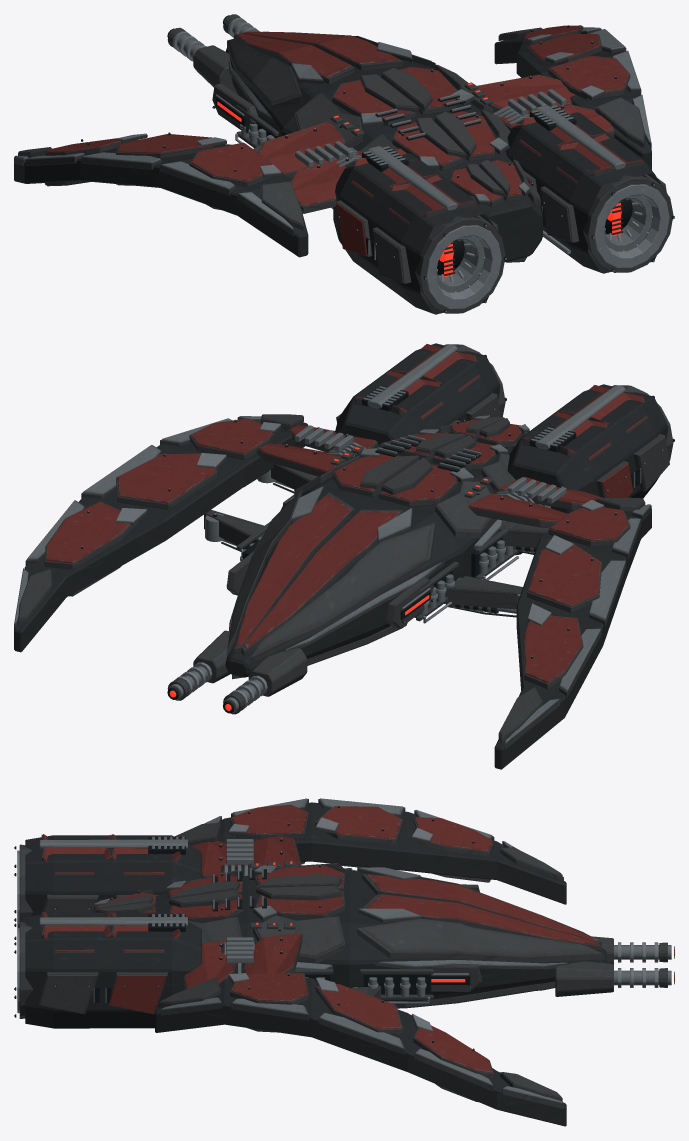
File: sentinel.glb
3 views of the same model, one above another, from view 1: azimuth 30°, elevation 25°; view 2: azimuth 150°, elevation 25°; view 3: azimuth 270°, elevation 25° (orthographic). The views are drawn at different scales.
Parts seen in each view (by area): view 1: Sentinel.001; view 2: Sentinel.001; view 3: Sentinel.001.
Boxes of the visible parts, x1,y1,x2,y2 form: Sentinel.001: (14,14,674,314); Sentinel.001: (14,343,674,769); Sentinel.001: (14,798,674,1126).
Size of the model in its own units: 6.38 by 1.6 by 7.13.
Materials: 7 (7 with a texture image).
